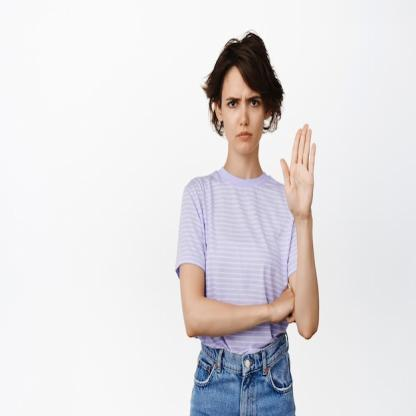stop: (278, 119, 324, 222)
